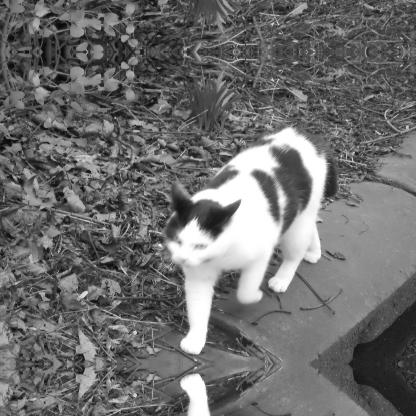Cat: (160, 120, 340, 356)
